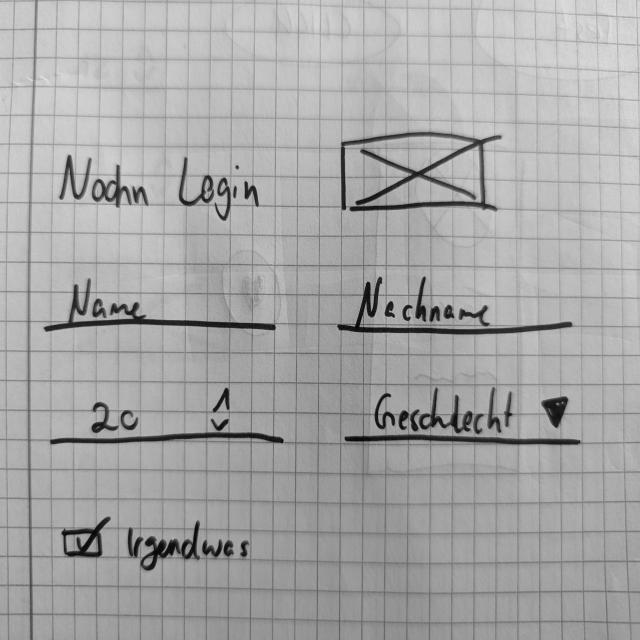checkbox: (61, 512, 255, 575)
image: (336, 129, 491, 218)
input: (336, 274, 577, 340), (45, 277, 282, 338)
label: (55, 151, 264, 225)
number-input: (50, 386, 288, 451)
select: (344, 383, 585, 451)
